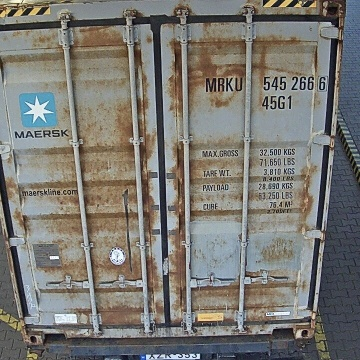serial_id: (204, 76, 327, 92)
